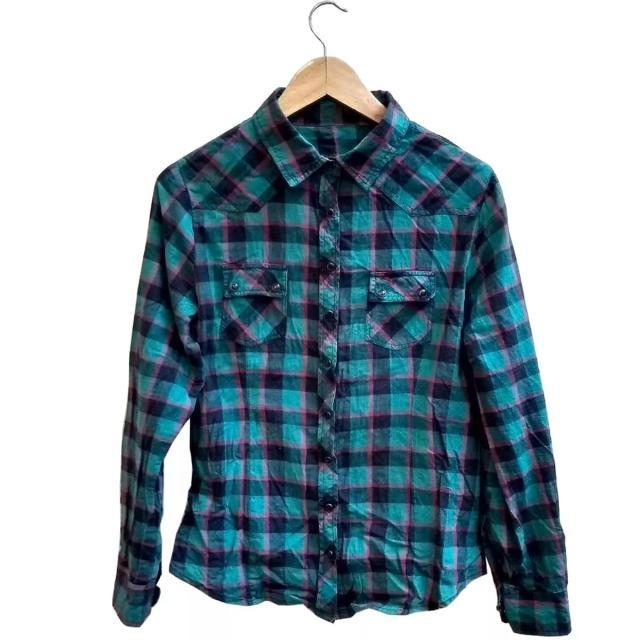long sleeve shirt: (111, 81, 574, 640)
